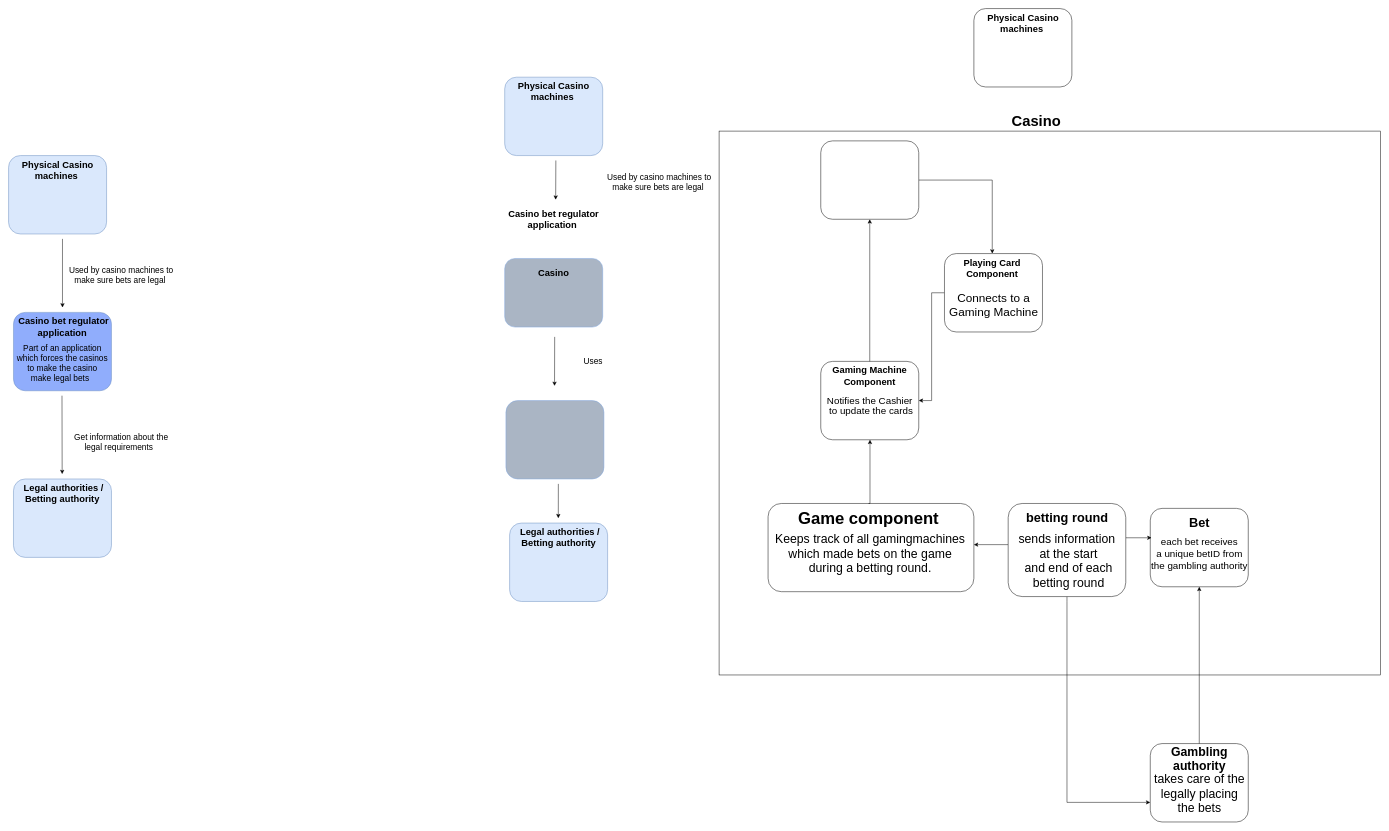
The diagram is 1389 pixels wide and 831 high, and some of its shapes have lost their labels. The box of each missing label's shape, as (x1, y1, x2, y2) in pixels:
Betting authority API: (505, 400, 604, 479)
Cashier Component: (820, 140, 919, 219)
